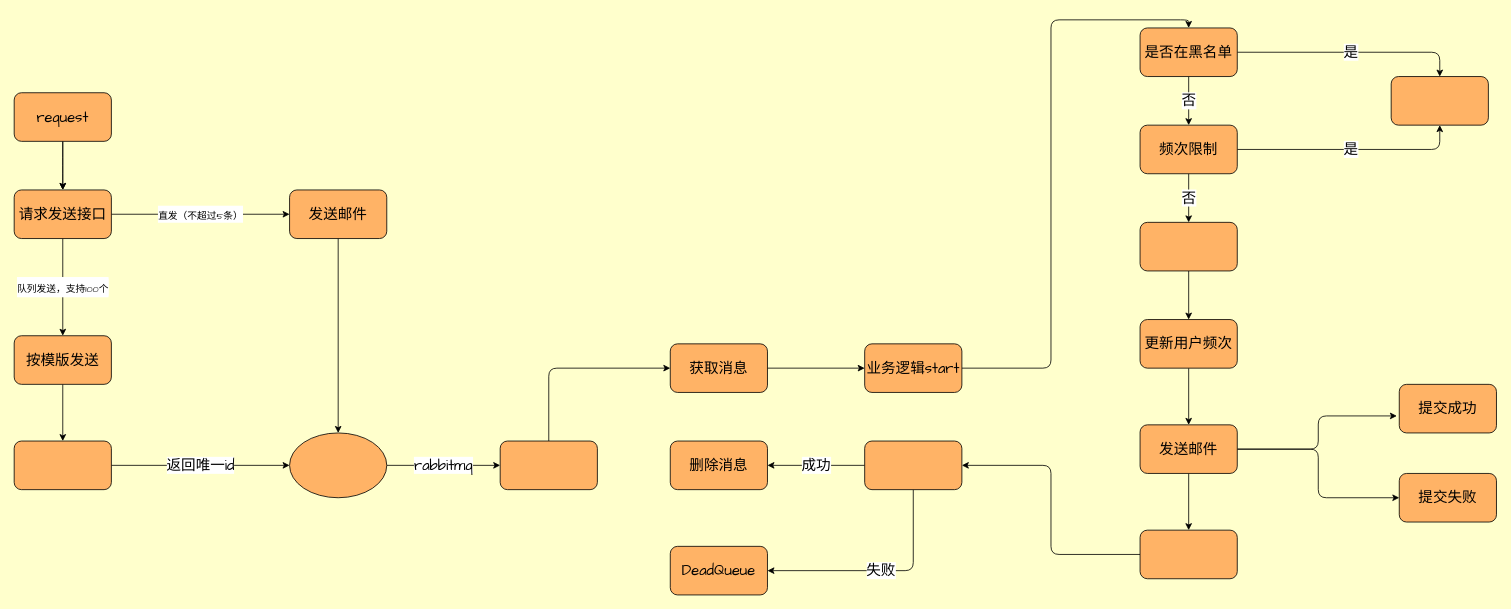
Image size: 1511x609. Some labels were removed from this diagram. The centre of each missing label's shape, as x and y in pixels:
"reponse" goes at point (338, 465).
"业务逻辑end" goes at point (913, 465).
"批量写记录" goes at point (1188, 554).
"未提交记录" goes at point (1439, 100).
"消费队列" goes at point (548, 465).
"进入队列" goes at point (62, 465).
"选取platform" goes at point (1188, 246).
